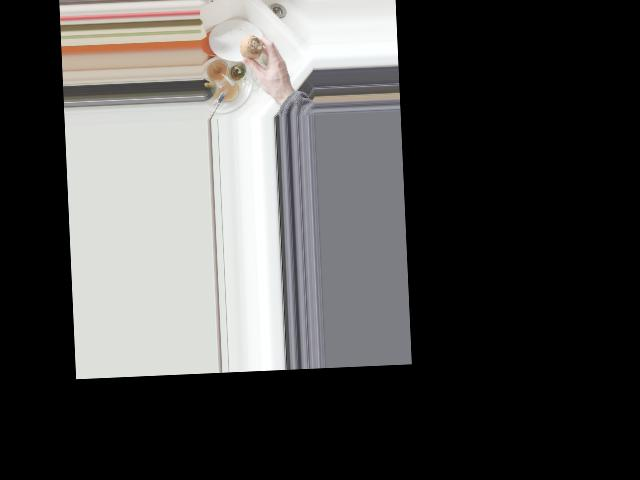sweet_potato: (238, 33, 264, 65)
